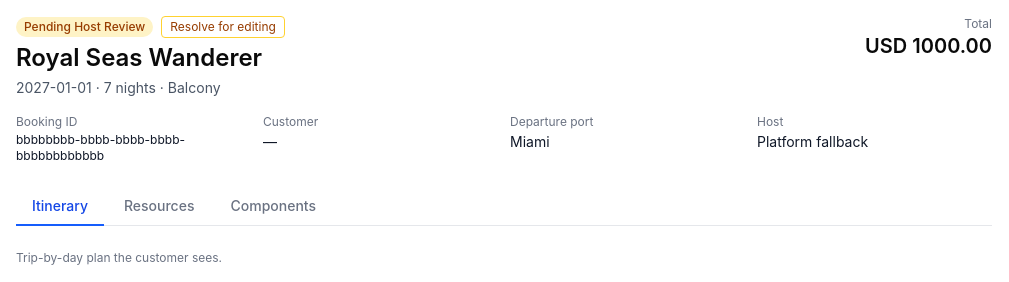
Test: BookingDetailPage — resolve pending_host_review (#1810) › refreshes the status badge to draft on a 200 success
The width and height of the screenshot is (1009, 282).
Click the button "Resolve for editing" at (223, 27), box [161,16,285,38]
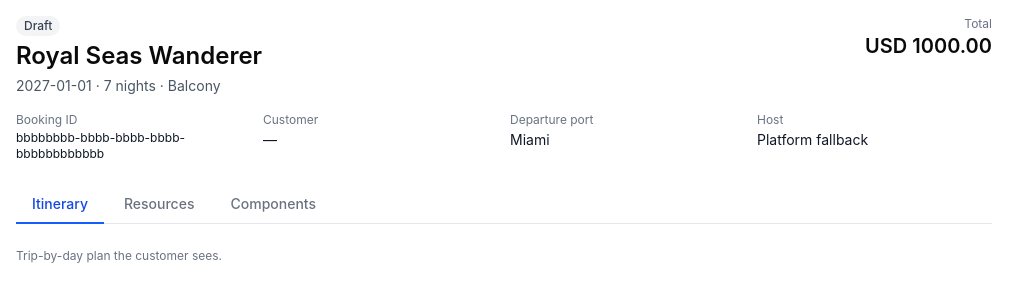
expect the text "draft" is shown: met, box [16,16,60,36]
expect the button "Resolve for editing" is gone: met
